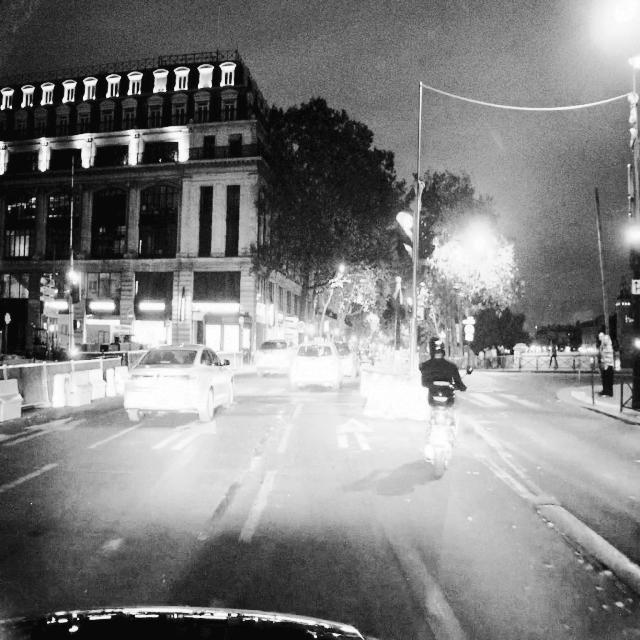Car: (124, 346, 236, 418)
Light: (396, 208, 415, 264)
Motorcycle: (426, 388, 454, 477)
Truck: (86, 324, 139, 345)
